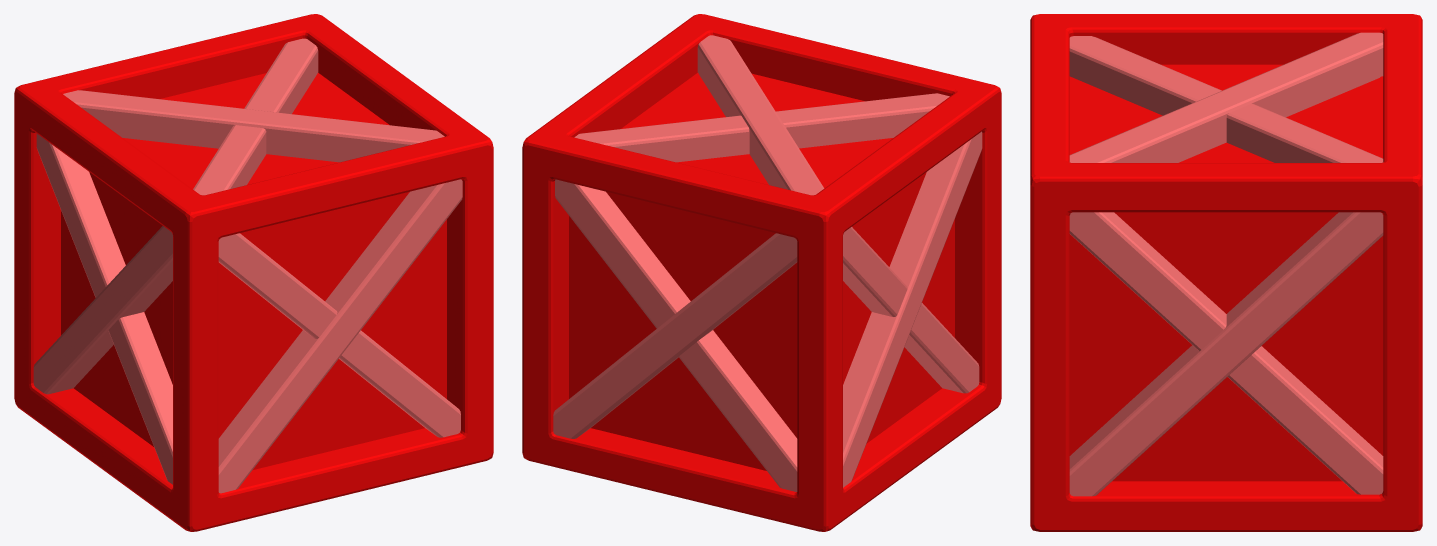
File: Crate_Graphics_Card.fbx
3 views of the same model, side by side, from view 1: azimuth 30°, elevation 25°; view 2: azimuth 150°, elevation 25°; view 3: azimuth 270°, elevation 25° (orthographic). The views are drawn at different scales.
Parts seen in each view (by area): view 1: Crate Graphics Card; view 2: Crate Graphics Card; view 3: Crate Graphics Card.
Part boxes in pixels (bbox=[...]): Crate Graphics Card: bbox=[14, 14, 493, 531]; Crate Graphics Card: bbox=[522, 14, 1001, 531]; Crate Graphics Card: bbox=[1030, 14, 1422, 531].
Size of the model in its own units: 100 by 100 by 100.
